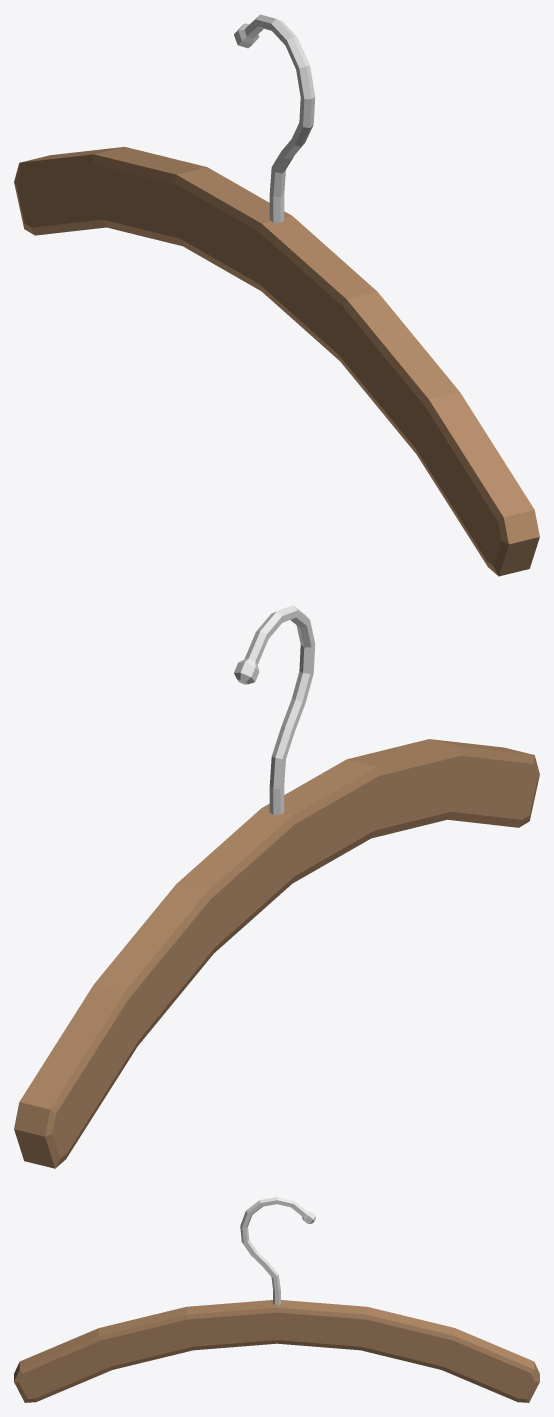
File: coatHanger-MODEsYdW.glb
3 renders of one model, top to bottom at view 1: azimuth 30°, elevation 25°; view 2: azimuth 150°, elevation 25°; view 3: azimuth 270°, elevation 25°, orthographic. The views are drawn at different scales.
Visible parts, largest first — view 1: Cloth_Hanger; view 2: Cloth_Hanger; view 3: Cloth_Hanger.
Boxes of the visible parts, <box> form: Cloth_Hanger: <box>14,14,539,576</box>; Cloth_Hanger: <box>14,605,539,1168</box>; Cloth_Hanger: <box>14,1197,539,1402</box>.
Bounding box in the file's own units: 4.58 × 46.28 × 109.
1 material, 1 textured.
